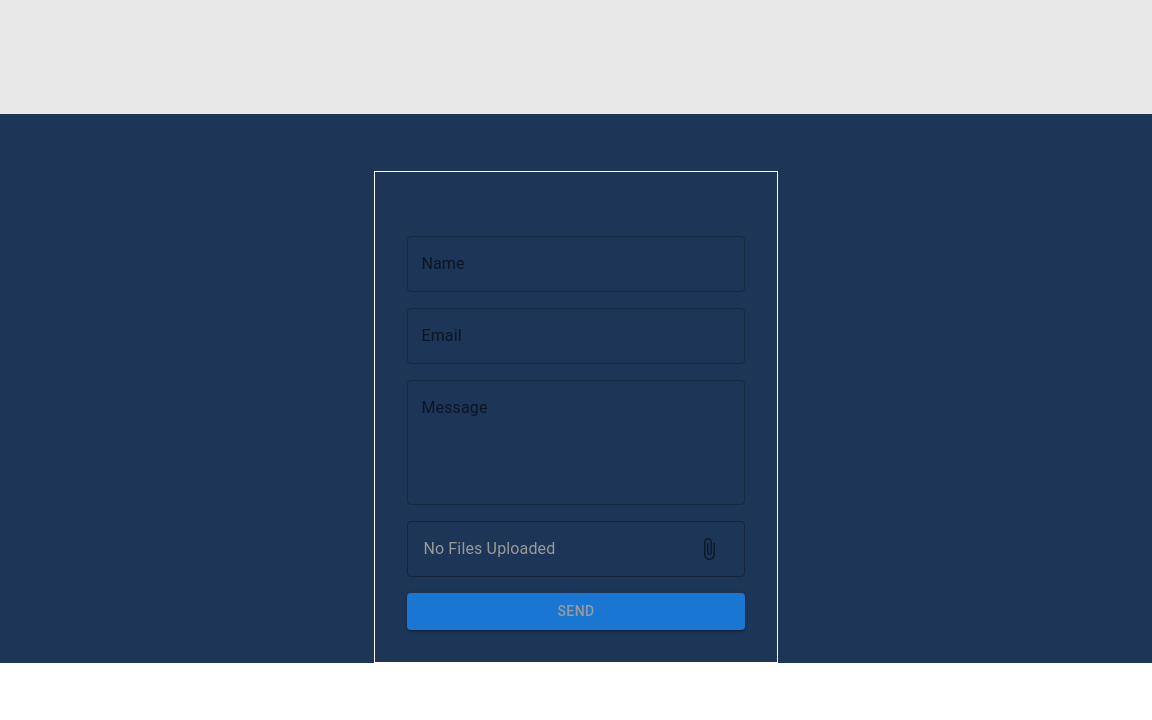
Test: Contact Component › shows validation errors when submitting an empty form
(page scrolled)
Click the button "Send" at (576, 611), box [407,593,745,630]
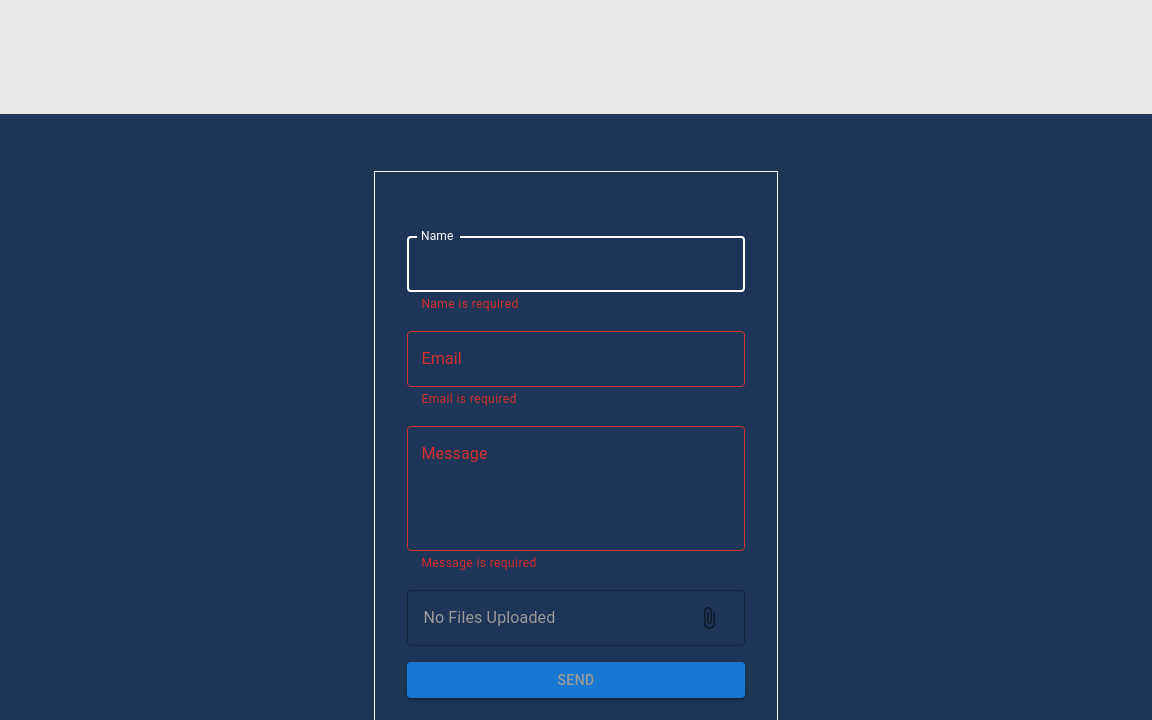
Check: the text "Name is required" is shown, box [421,297,519,311]
Check: the text "Email is required" is shown, box [421,392,517,406]
Check: the text "Message is required" is shown, box [421,556,537,570]
